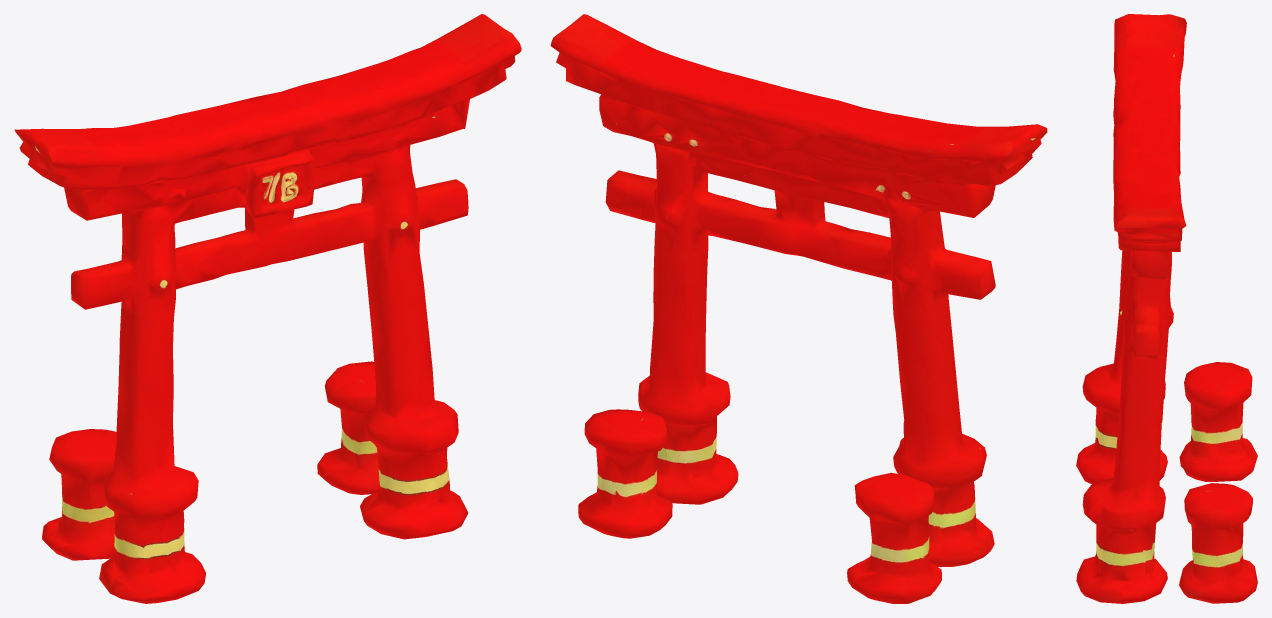
Rendered from torii_gate_large.glb.
3 views of the same model, side by side, from view 1: azimuth 30°, elevation 25°; view 2: azimuth 150°, elevation 25°; view 3: azimuth 270°, elevation 25° (orthographic). The views are drawn at different scales.
Size of the model in its own units: 1.9 by 1.77 by 0.7056.
Materials: 1 (1 with a texture image).
